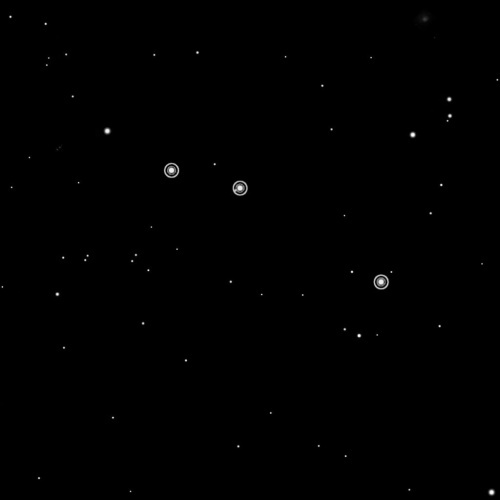vulpecula: (161, 158, 393, 295)
